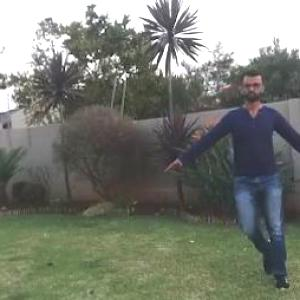land: (169, 76, 299, 258)
